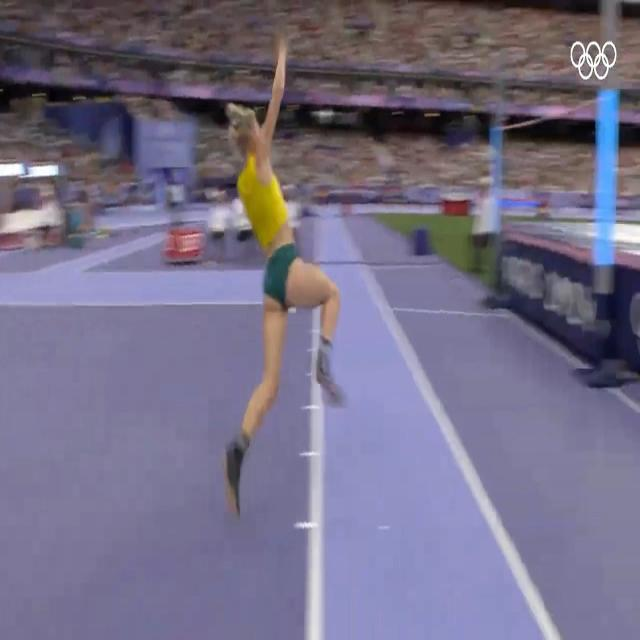run: (225, 73, 349, 508)
